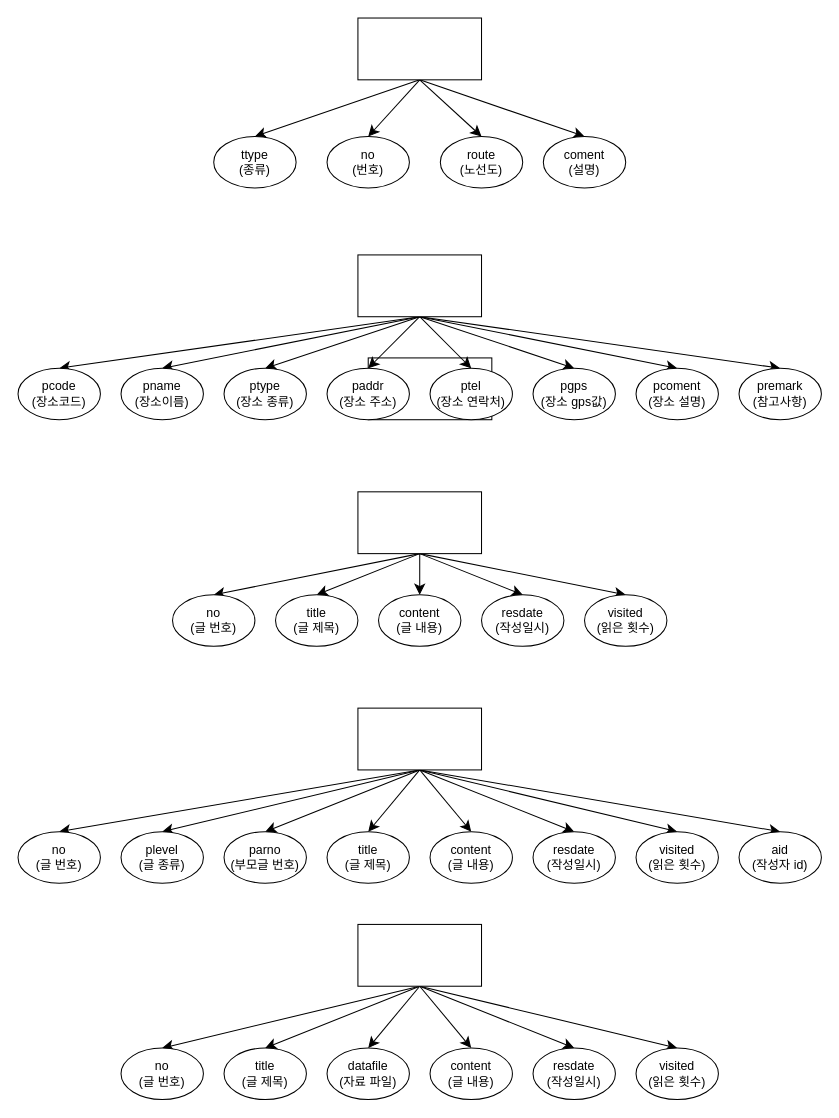
Image size: 839x1118. Some labels were removed from this diagram. The shapes that lost their labels are listed below. From the top down, each one's box as (x1, y1, x2, y2) in pixels, then its label:
(357, 17, 482, 80): traffic (교통편)
(357, 254, 482, 317): 안내사항 (guide)
(357, 491, 482, 554): notice (공지사항)
(357, 707, 482, 770): qna (묻고 답하기)
(357, 923, 482, 986): data (자료실)
